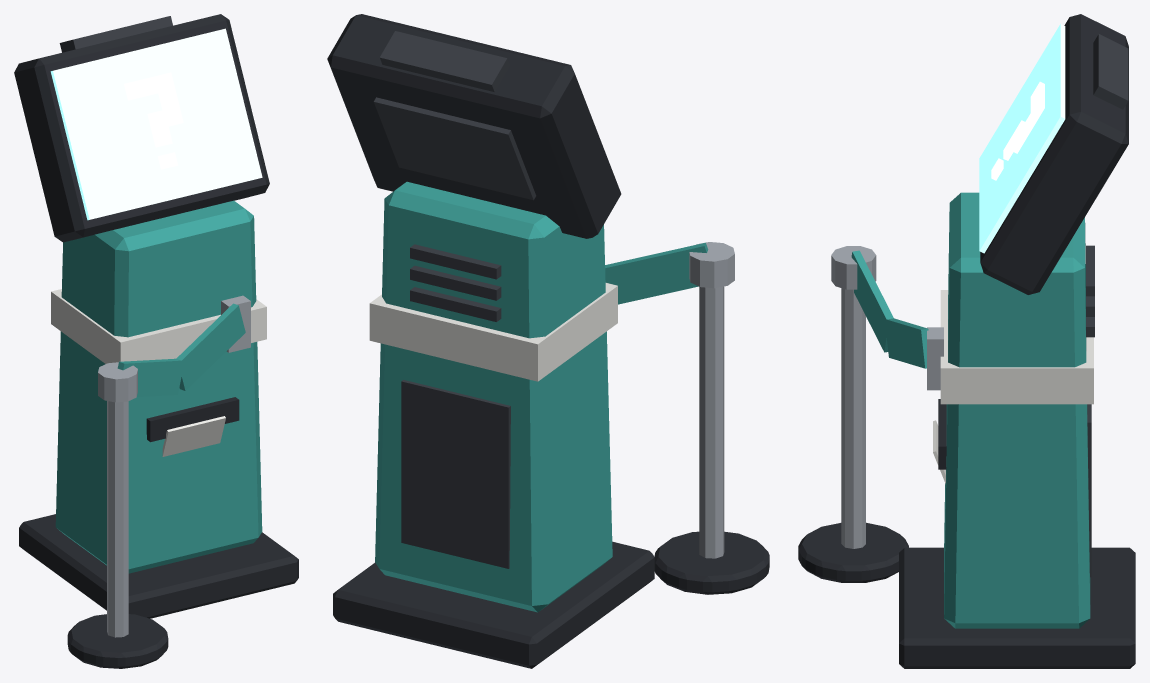
Rendered from selfservice_core.glb.
3 renders of one model, left to right at view 1: azimuth 30°, elevation 25°; view 2: azimuth 150°, elevation 25°; view 3: azimuth 270°, elevation 25°, orthographic. The views are drawn at different scales.
Visible parts, largest first — view 1: selfservice_core_mesh; view 2: selfservice_core_mesh; view 3: selfservice_core_mesh.
Part boxes in pixels (left/top/right/bottom): selfservice_core_mesh: left=14, top=14, right=298, bottom=668; selfservice_core_mesh: left=327, top=14, right=769, bottom=668; selfservice_core_mesh: left=798, top=14, right=1135, bottom=668.
Bounding box in the file's own units: 0.5775 × 1.1 × 0.5982.
